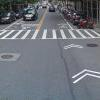Crosswalk: (2, 23, 100, 48)
